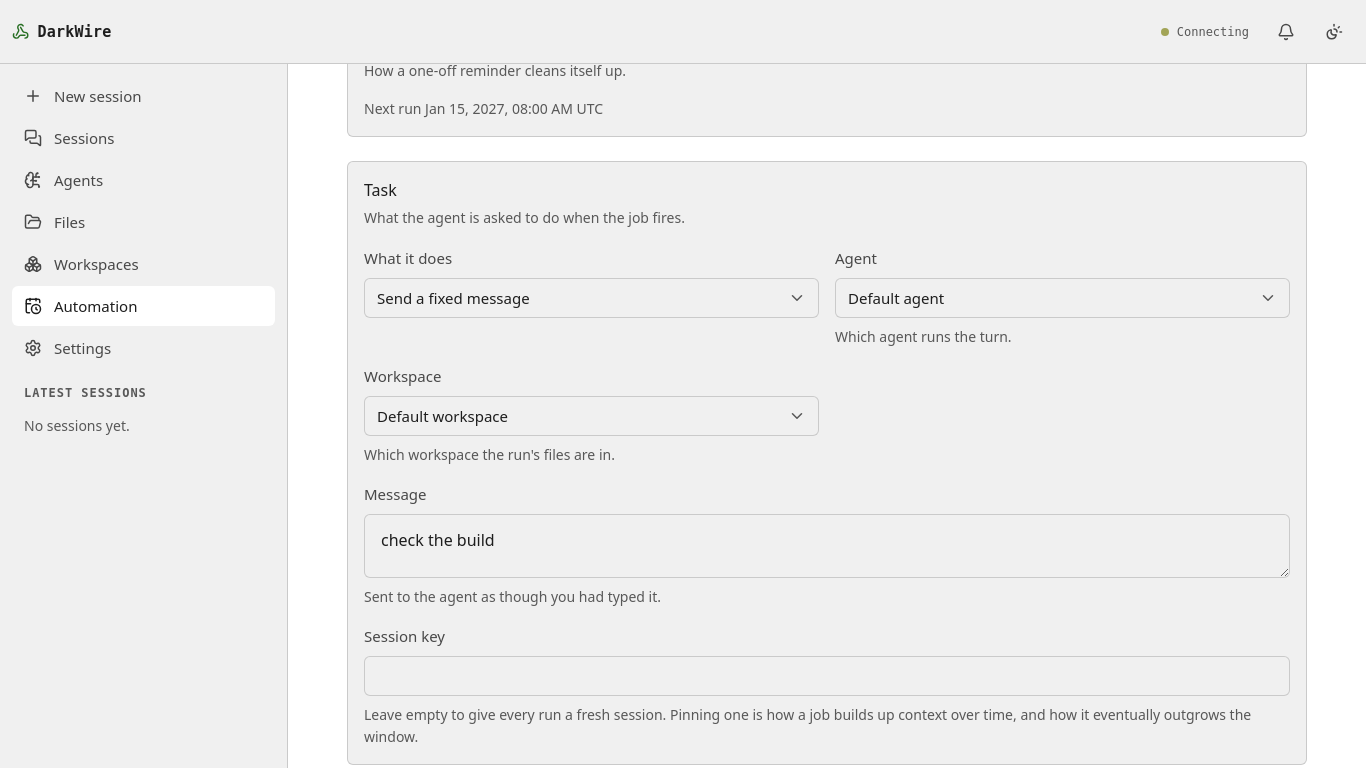
Scenario: the job editor › offers the real workspaces, so a run′s files can be somewhere of their own
(page scrolled)
Click the dropdown labelled "workspace" at coordinates (442, 416), box [364,396,819,436]
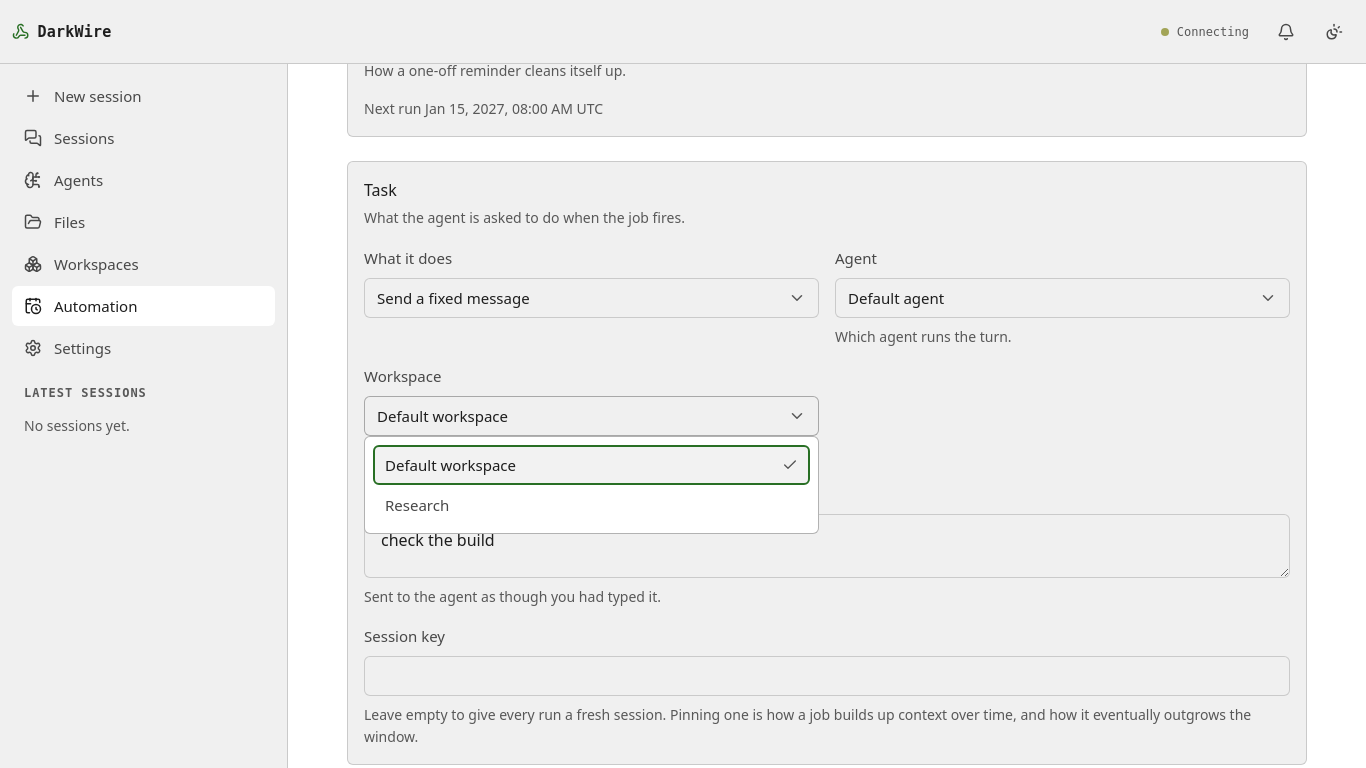
Expected: the option "Research" is shown, [385,495,449,515]
